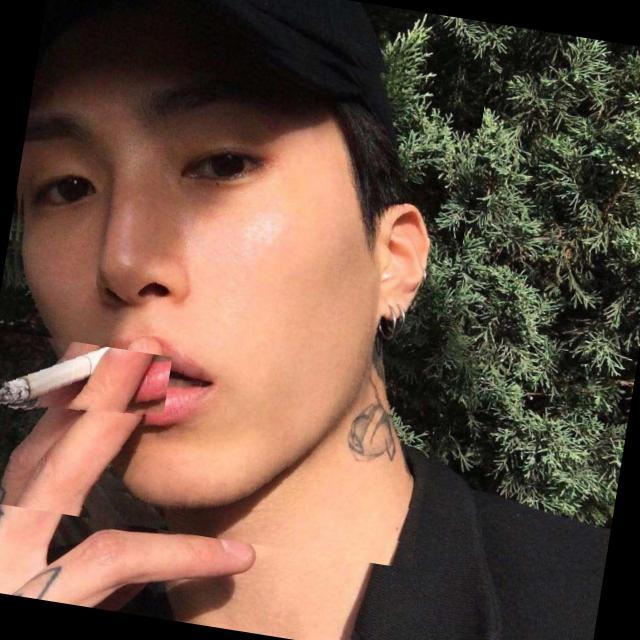cigarette: (0, 329, 172, 431)
